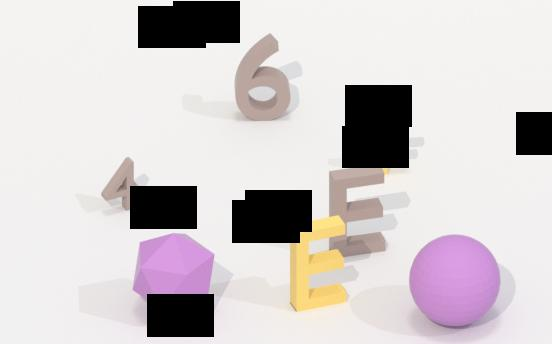4: (98, 155, 146, 212)
6: (227, 36, 297, 121)
E-hoa: (283, 213, 354, 311), (330, 161, 391, 259)
F: (373, 114, 417, 178)
cau: (404, 234, 506, 325)
dagiac: (125, 235, 220, 311)
